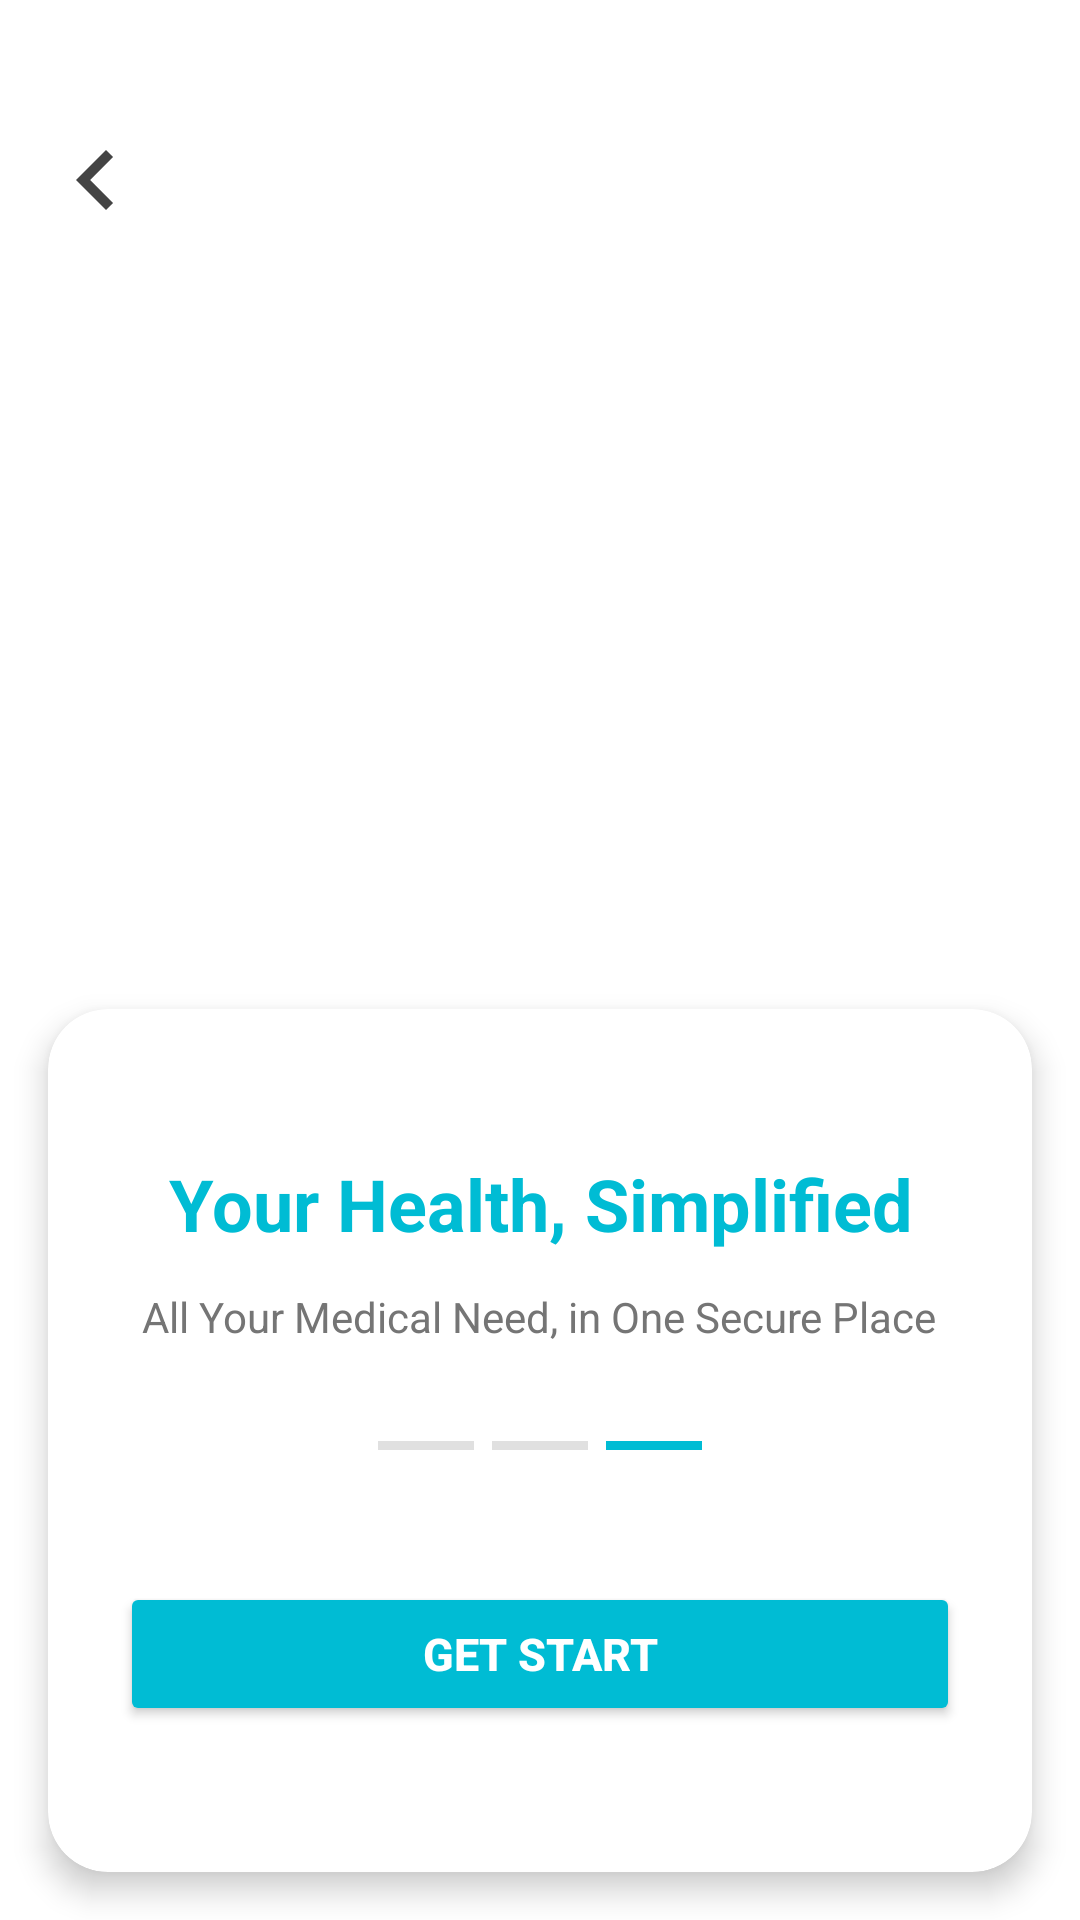

Locate icon controls on the screen. Image size 1080×1920, boxes as bbox(x1, y1, x2, y2).
Back Button: bbox(76, 150, 113, 210)
